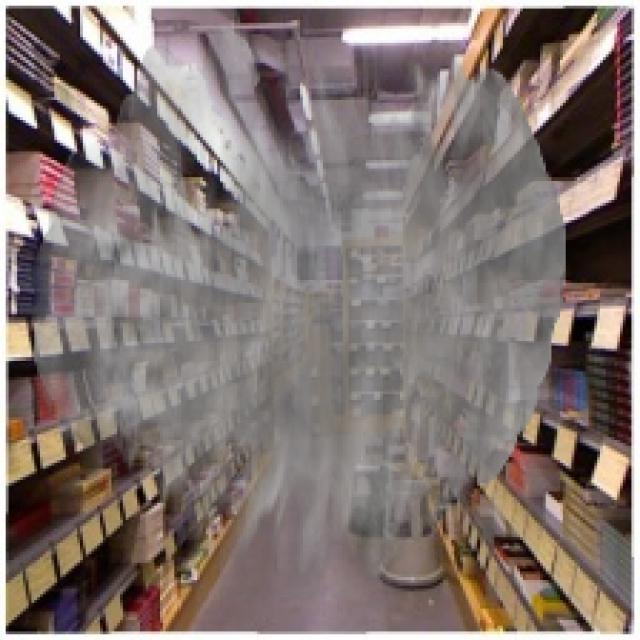smoke: (31, 23, 566, 588)
